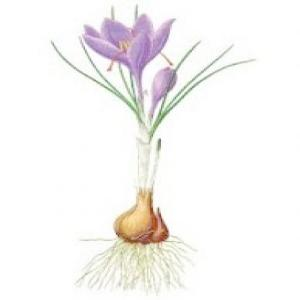Saffron: (82, 14, 170, 77), (148, 65, 184, 110)
